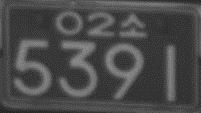0: (54, 8, 83, 36)
1: (153, 42, 187, 103)
2: (86, 10, 115, 38)
3: (57, 38, 97, 99)
5: (13, 38, 52, 97)
9: (104, 41, 145, 100)
소: (117, 11, 147, 39)
